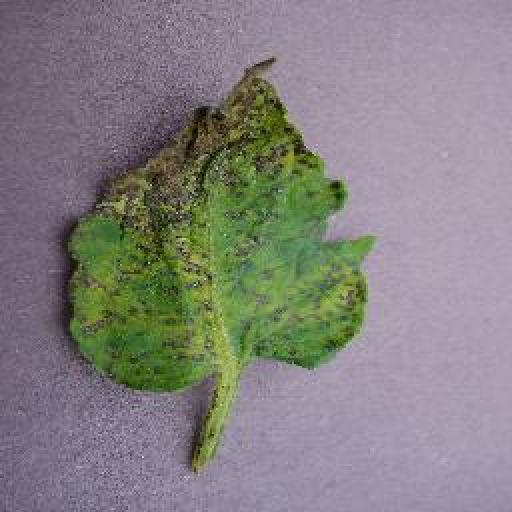Septoria: (66, 56, 379, 389)
